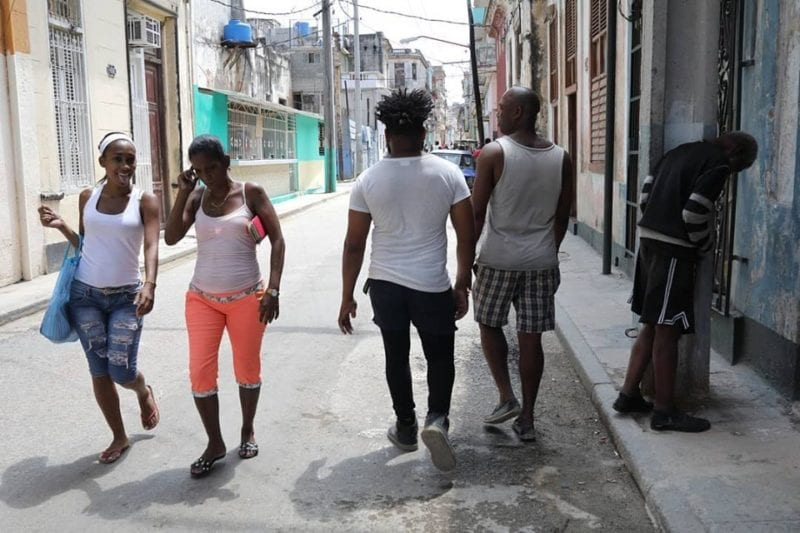person: (328, 78, 486, 478), (609, 120, 764, 443), (32, 125, 176, 467), (459, 76, 582, 451), (161, 131, 291, 480)
